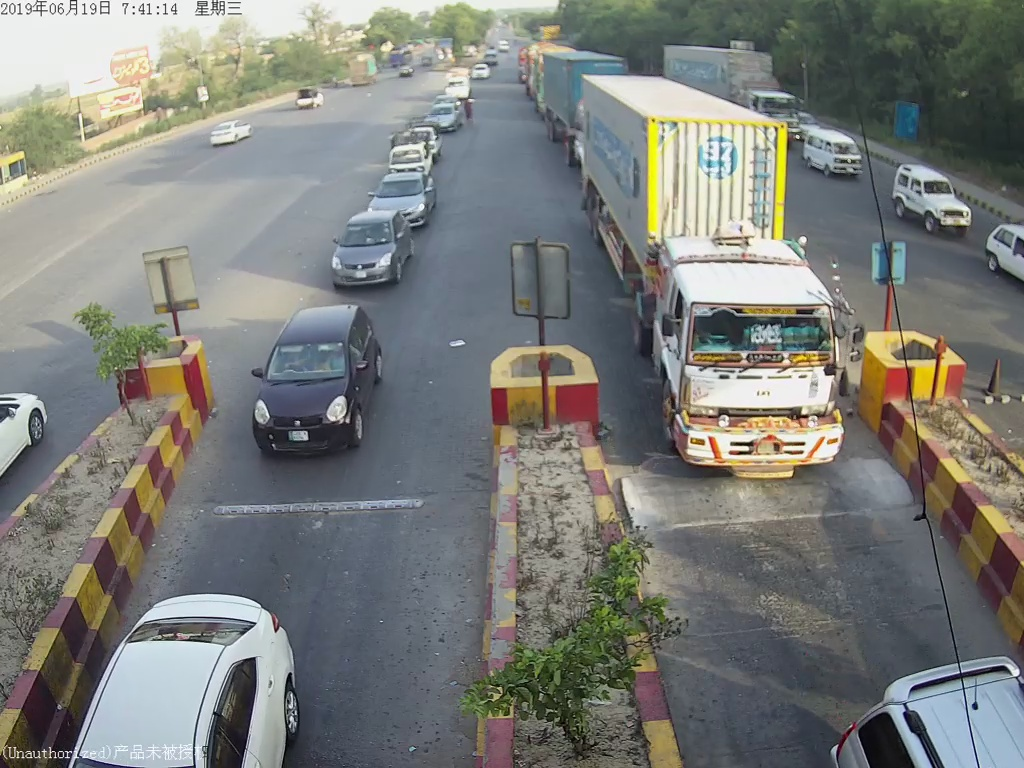Cat-1: (246, 303, 394, 464), (324, 219, 414, 280), (370, 171, 438, 219)
Cat-5: (577, 71, 866, 475)
